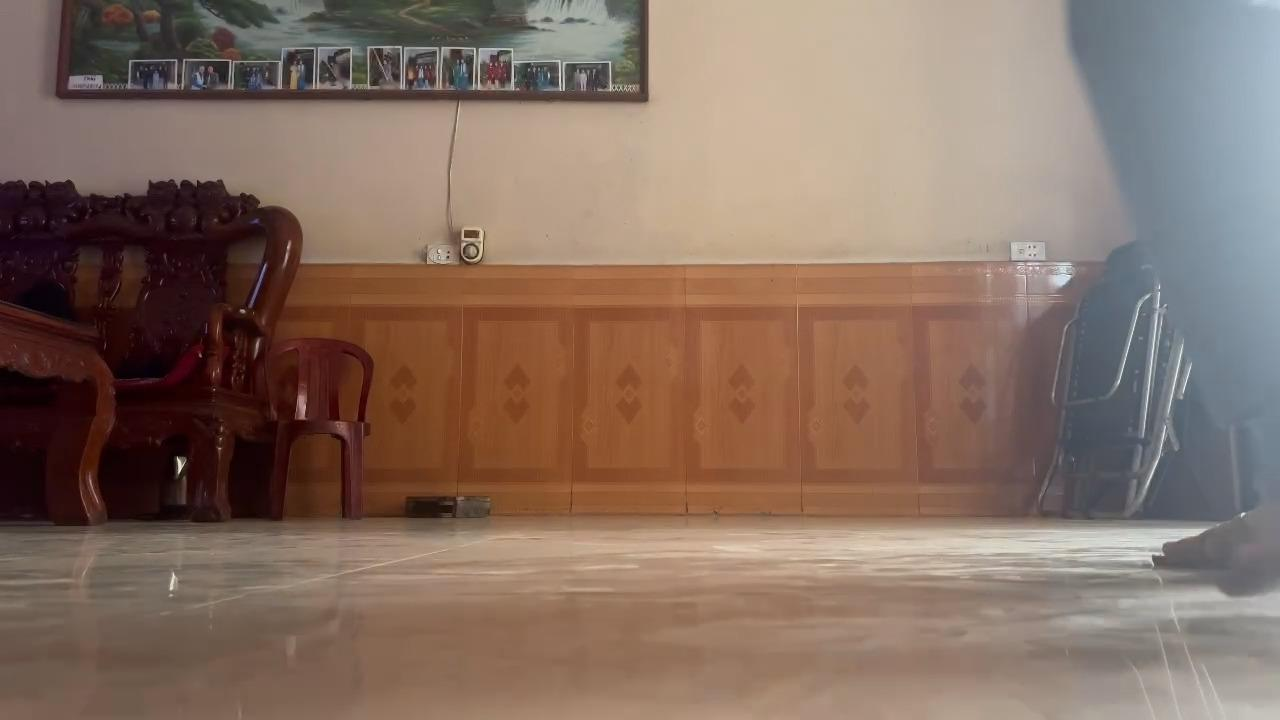no-boot: (1140, 519, 1280, 598)
